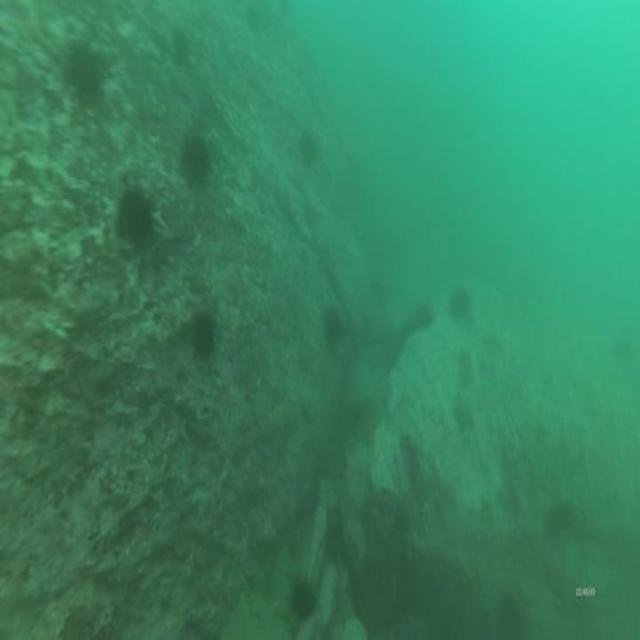echinus: (60, 33, 112, 112), (112, 180, 156, 258), (179, 119, 214, 198), (284, 572, 322, 629), (190, 305, 222, 367), (317, 299, 347, 357), (543, 495, 576, 542), (497, 589, 526, 640), (295, 125, 323, 172), (447, 283, 474, 329)
starfish: (450, 389, 476, 439)
